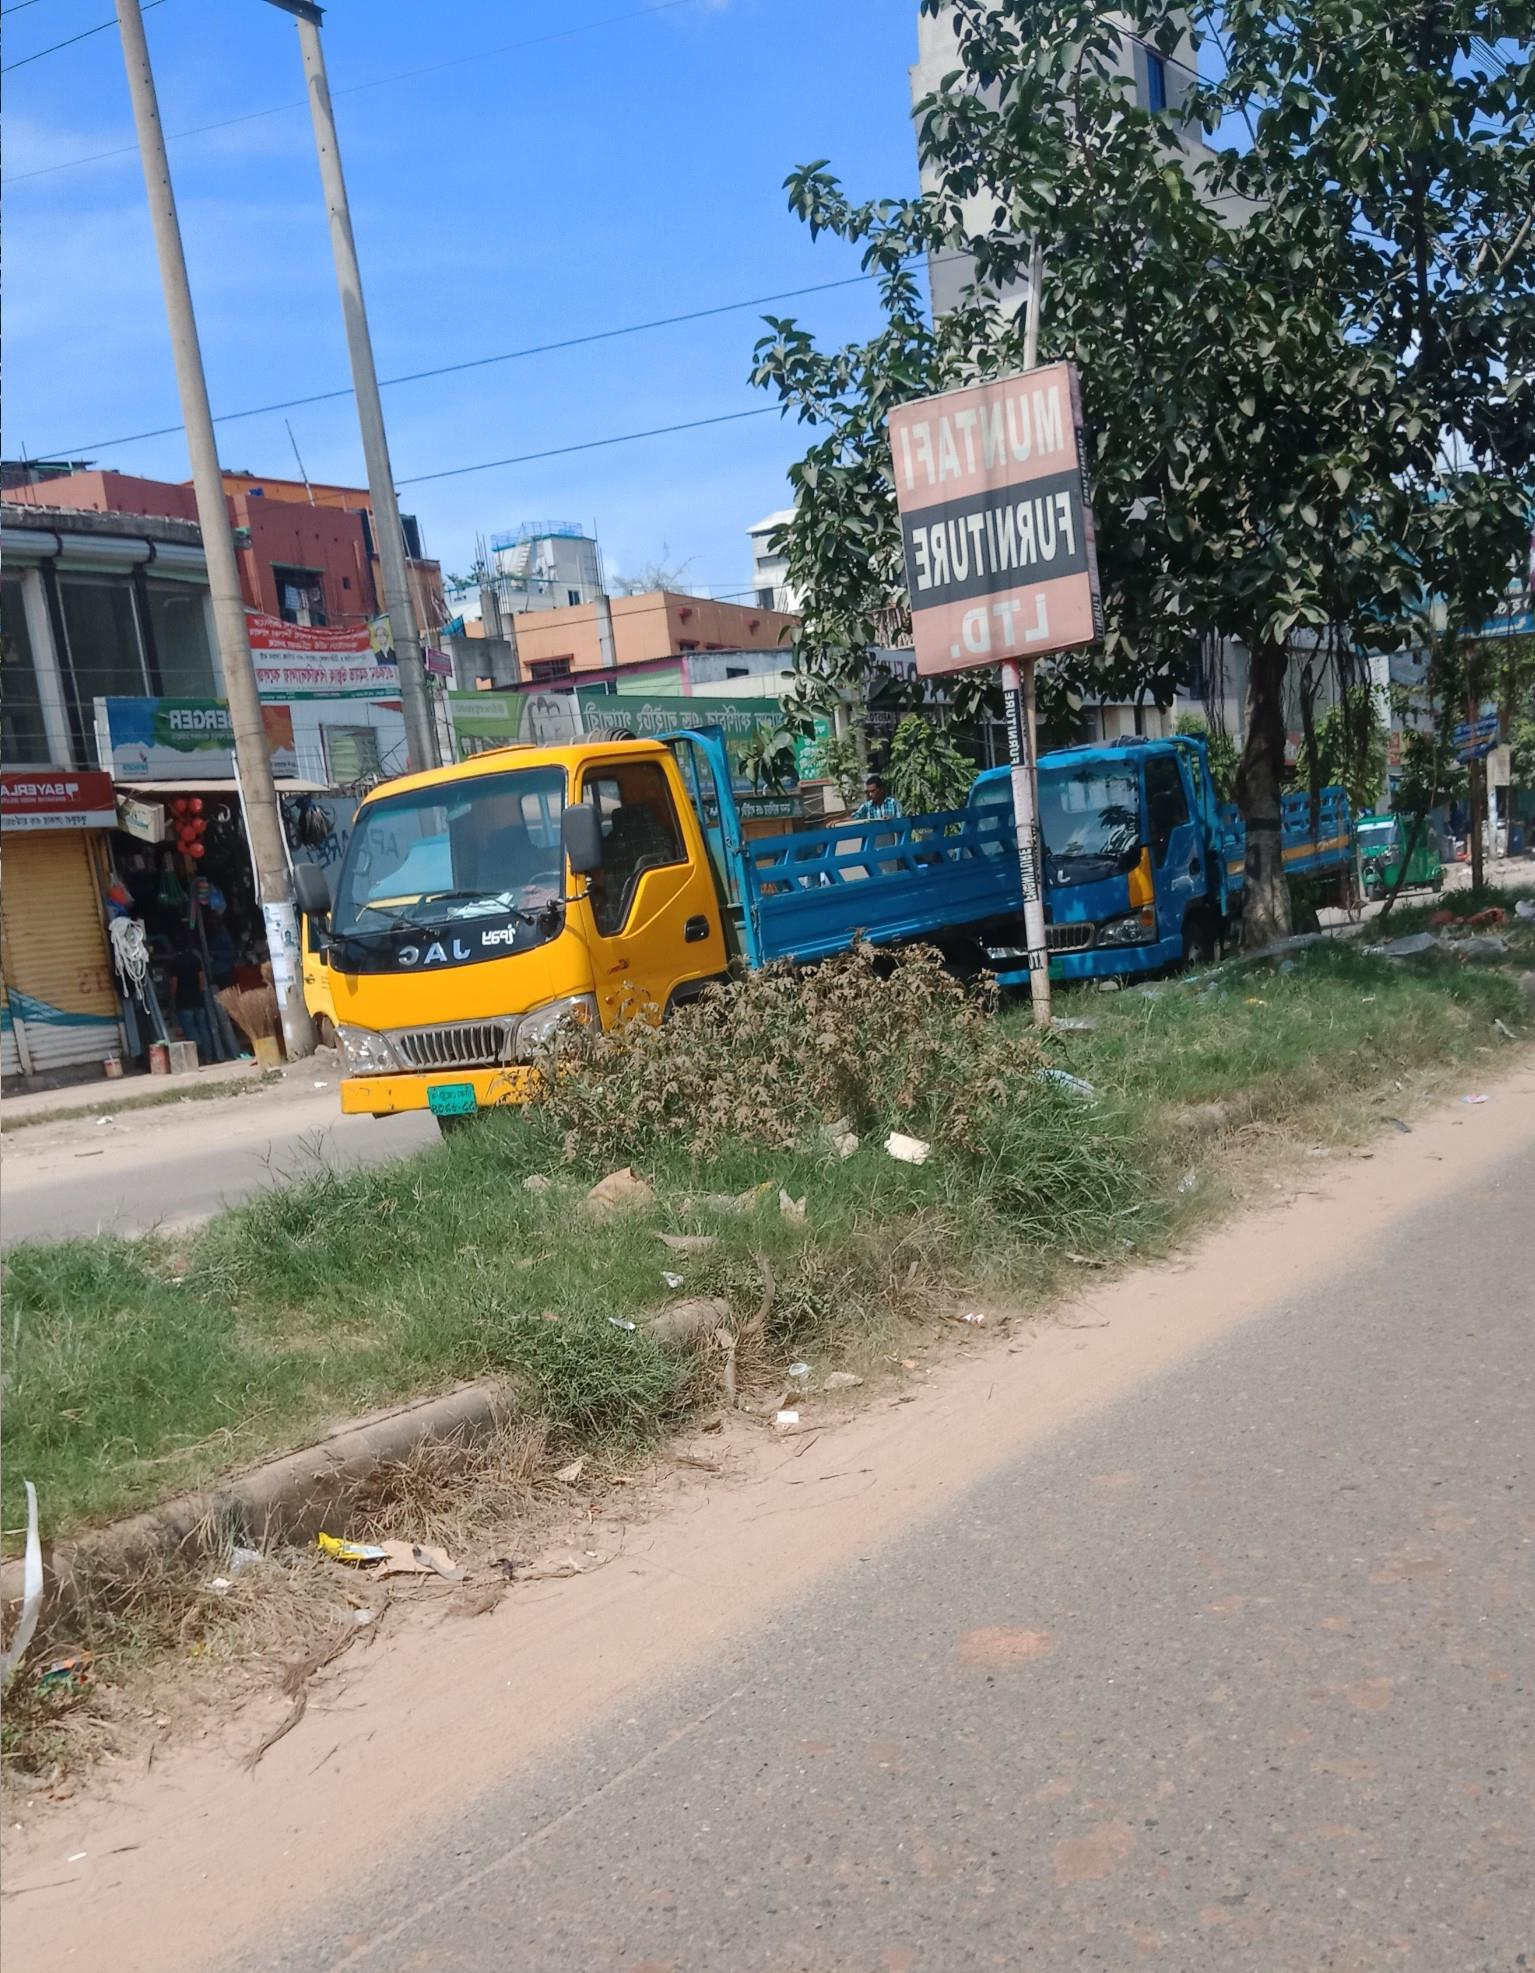cng: (1348, 806, 1447, 894)
truck: (338, 717, 1022, 1126), (960, 709, 1359, 1014)
